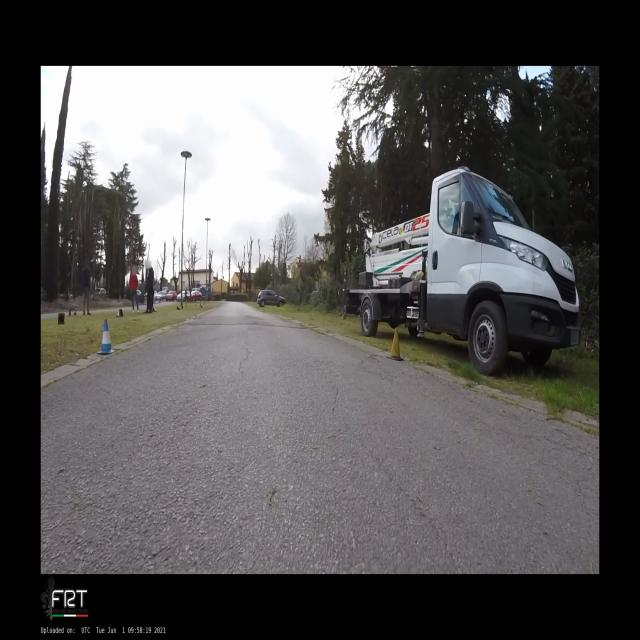blue_cone: (97, 319, 116, 354)
large_orange_cone: (74, 306, 76, 315)
orange_cone: (116, 309, 123, 317)
unknown_cone: (386, 329, 405, 361), (58, 314, 64, 324), (68, 308, 71, 316), (177, 306, 181, 310), (182, 303, 183, 309)
